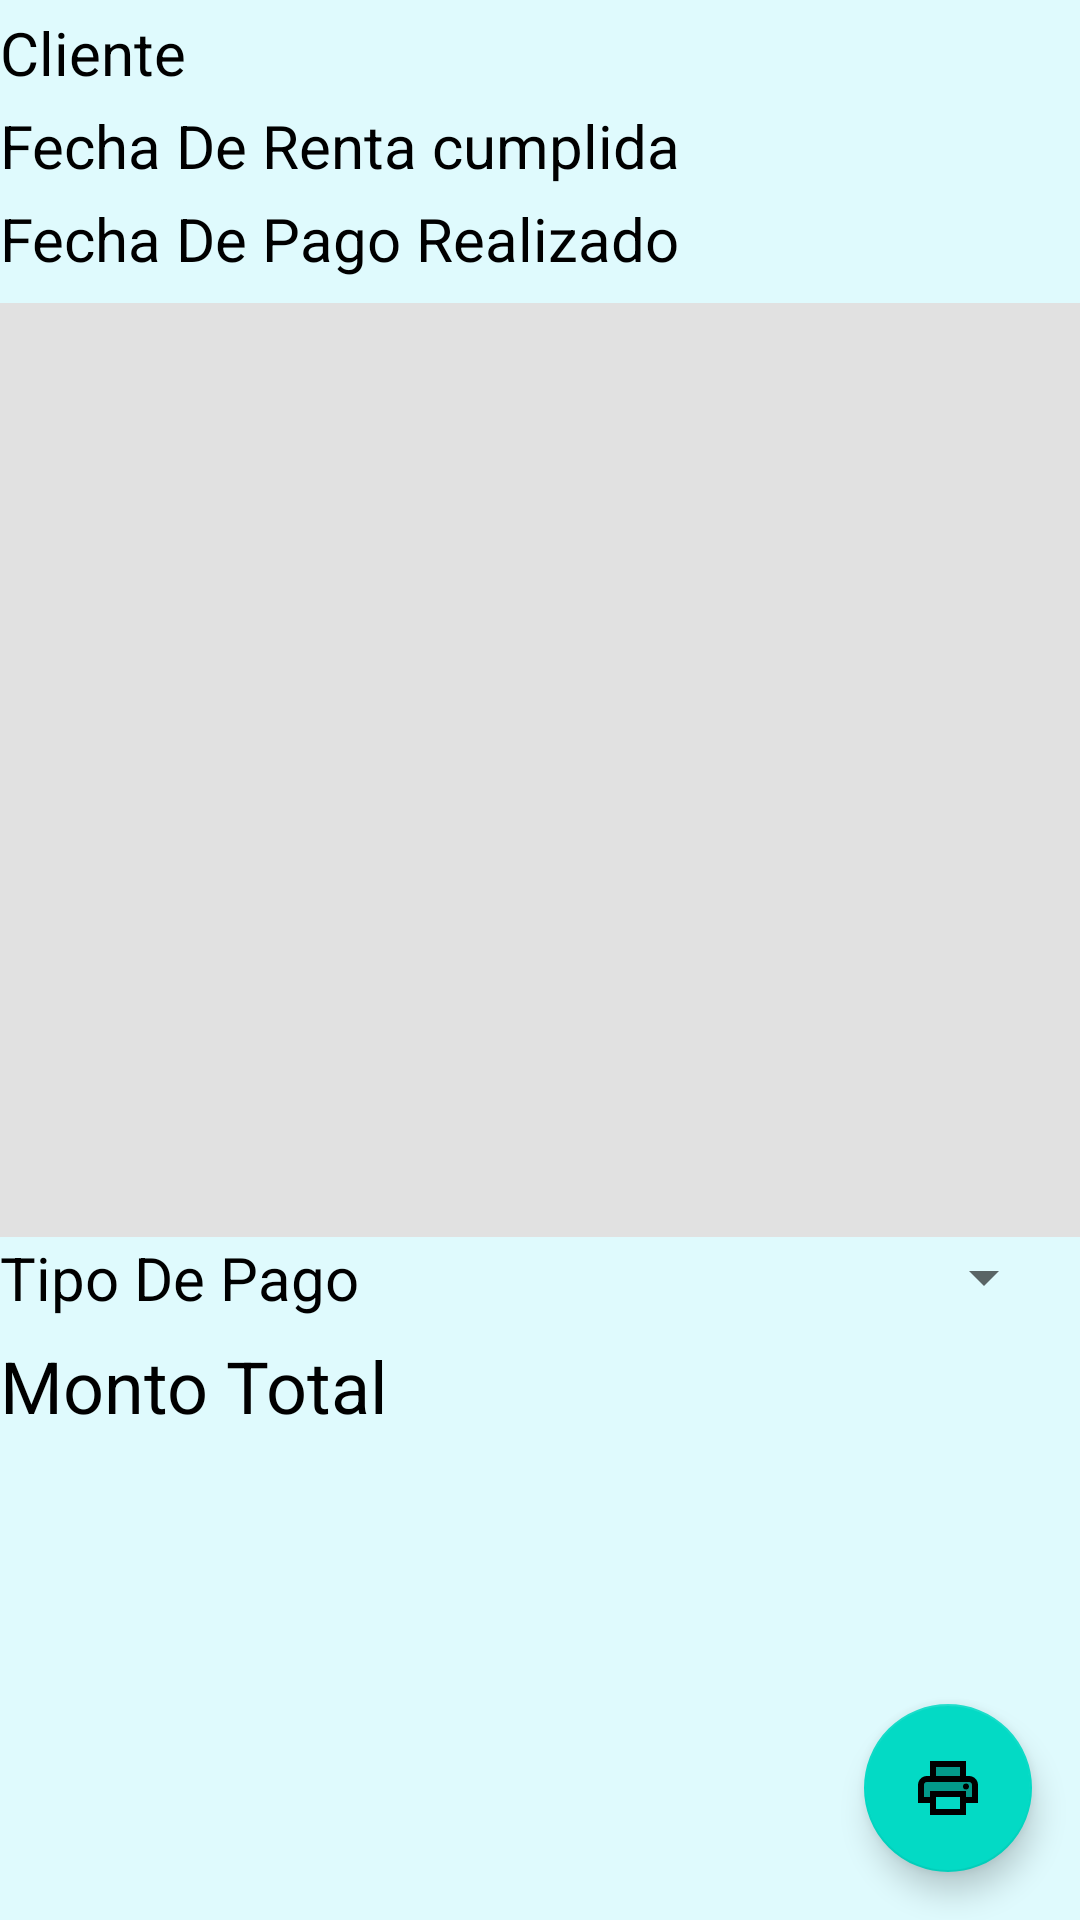

Screen size 1080w x 1920h. Icon name, then its center in pixels as [x,y]:
print: [948,1788]
